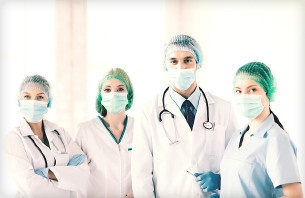Mask: (16, 88, 52, 123)
